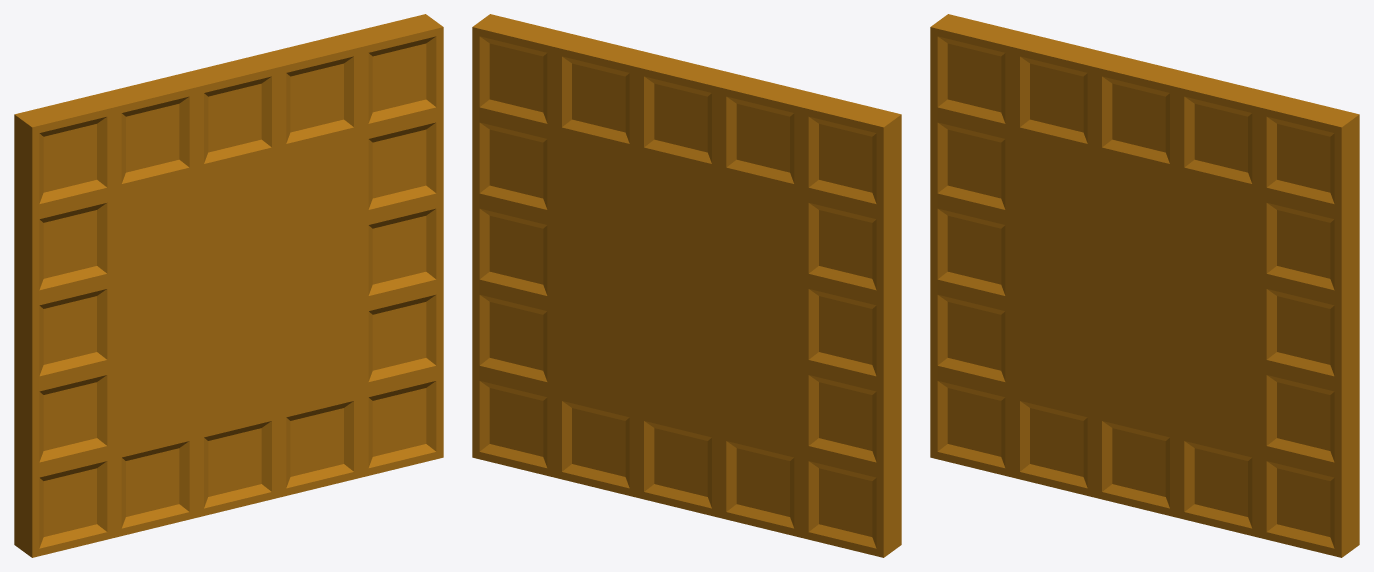
The model's file is stone_wall_4x4.fbx.
The picture shows the model from 3 angles, left to right: view 1: azimuth 30°, elevation 25°; view 2: azimuth 150°, elevation 25°; view 3: azimuth 330°, elevation 25°; orthographic projection.
Visible parts, largest first — view 1: stone_wall_4x4; view 2: stone_wall_4x4; view 3: stone_wall_4x4.
Boxes of the visible parts, box(x1,y1,x2,y2) form: stone_wall_4x4: box(14, 14, 443, 557); stone_wall_4x4: box(472, 14, 901, 557); stone_wall_4x4: box(930, 14, 1359, 557).
Size of the model in its own units: 18.2 by 18.2 by 1.37.
